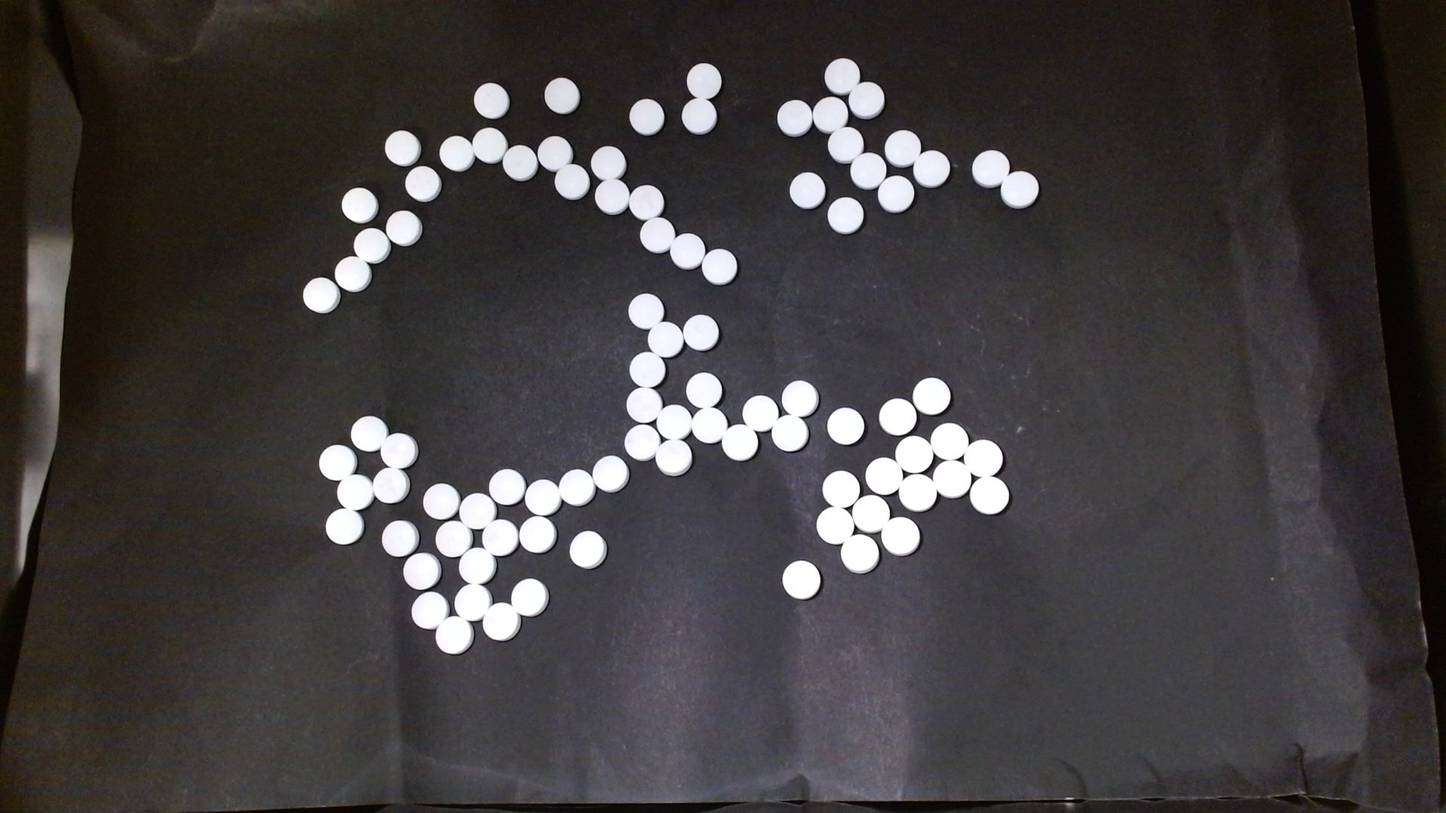Circle: (969, 474, 1010, 516), (839, 534, 880, 574), (880, 516, 920, 556), (781, 559, 821, 599), (912, 376, 951, 416), (509, 577, 548, 617), (895, 435, 934, 474), (325, 507, 364, 546), (410, 590, 449, 629), (434, 615, 473, 654), (827, 406, 865, 446), (569, 529, 607, 569), (879, 397, 917, 436), (932, 459, 970, 498), (349, 414, 388, 452), (816, 506, 855, 544), (851, 493, 889, 532), (1001, 170, 1039, 209), (336, 473, 374, 511), (402, 551, 440, 589), (898, 473, 936, 511), (770, 414, 807, 453), (912, 150, 950, 187), (380, 431, 417, 469), (682, 313, 719, 351), (591, 455, 628, 493), (877, 175, 914, 213), (519, 515, 556, 553), (822, 470, 859, 508), (701, 248, 738, 286), (318, 443, 355, 481), (721, 424, 758, 461), (883, 129, 920, 166), (781, 379, 818, 416), (691, 406, 728, 443), (381, 519, 418, 556), (931, 421, 968, 458), (455, 584, 492, 621), (436, 521, 472, 559), (865, 456, 901, 494), (654, 439, 692, 475), (559, 468, 595, 506), (789, 171, 825, 209), (972, 148, 1008, 186), (824, 57, 860, 95), (685, 371, 721, 408), (850, 151, 886, 188), (373, 467, 410, 503), (458, 547, 495, 583), (489, 469, 525, 506), (334, 256, 371, 292), (776, 99, 812, 136), (966, 439, 1002, 476), (341, 187, 378, 223), (459, 492, 495, 529), (627, 291, 664, 327), (302, 277, 339, 313), (482, 603, 519, 639), (525, 478, 560, 516), (594, 178, 630, 214), (629, 350, 665, 386), (438, 136, 474, 172), (812, 96, 848, 132), (848, 81, 884, 117), (422, 483, 458, 519), (624, 424, 660, 460), (626, 387, 662, 423), (686, 62, 722, 98), (827, 126, 862, 163), (657, 403, 692, 440), (482, 519, 517, 556), (827, 196, 862, 233), (554, 163, 589, 199), (386, 209, 421, 245), (354, 227, 389, 263), (404, 166, 440, 201), (670, 233, 705, 269), (629, 99, 664, 135), (384, 129, 419, 165), (473, 82, 508, 118), (544, 78, 579, 114), (640, 217, 675, 252), (590, 145, 625, 180), (537, 136, 572, 171), (681, 98, 716, 133), (743, 394, 778, 429), (648, 321, 682, 357), (629, 184, 664, 218), (472, 126, 506, 160), (502, 145, 535, 178)
